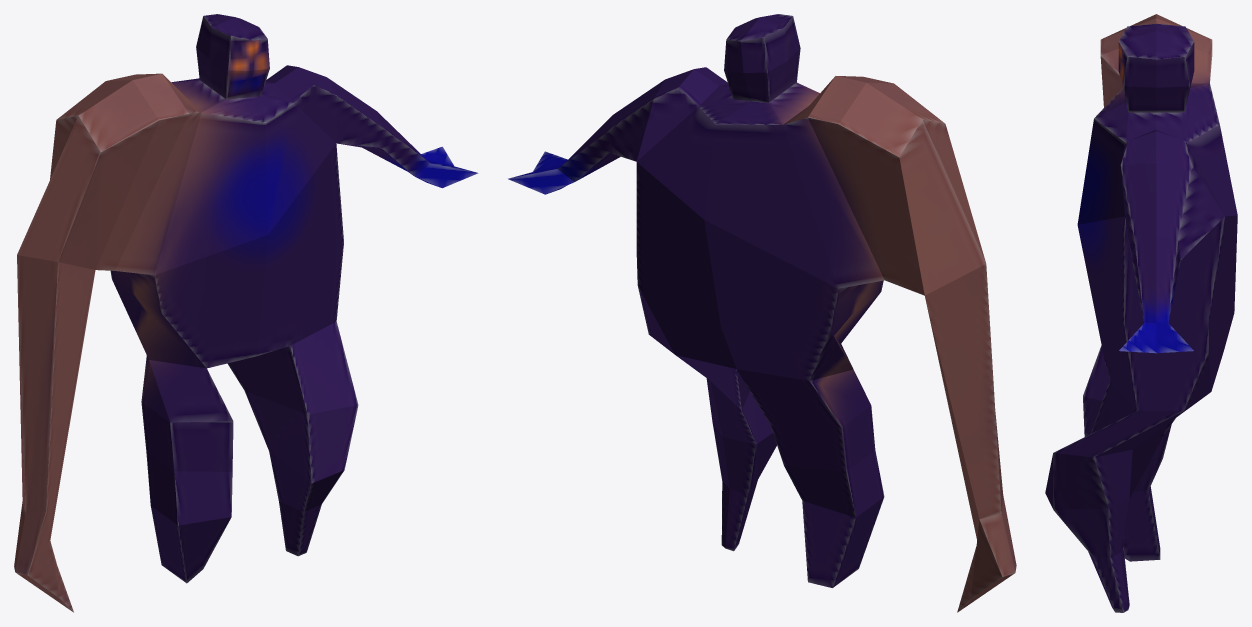
The model's file is enemigo_3.obj.
The picture shows the model from 3 angles, left to right: view 1: azimuth 30°, elevation 25°; view 2: azimuth 150°, elevation 25°; view 3: azimuth 270°, elevation 25°; orthographic projection. The views are drawn at different scales.
Parts seen in each view (by area): view 1: monstruo_grande; view 2: monstruo_grande; view 3: monstruo_grande.
Boxes of the visible parts, left/top/right/bottom form: monstruo_grande: left=14, top=14, right=478, bottom=612; monstruo_grande: left=508, top=14, right=1016, bottom=612; monstruo_grande: left=1045, top=14, right=1237, bottom=612.
Size of the model in its own units: 1.53 by 1.73 by 0.5344.
